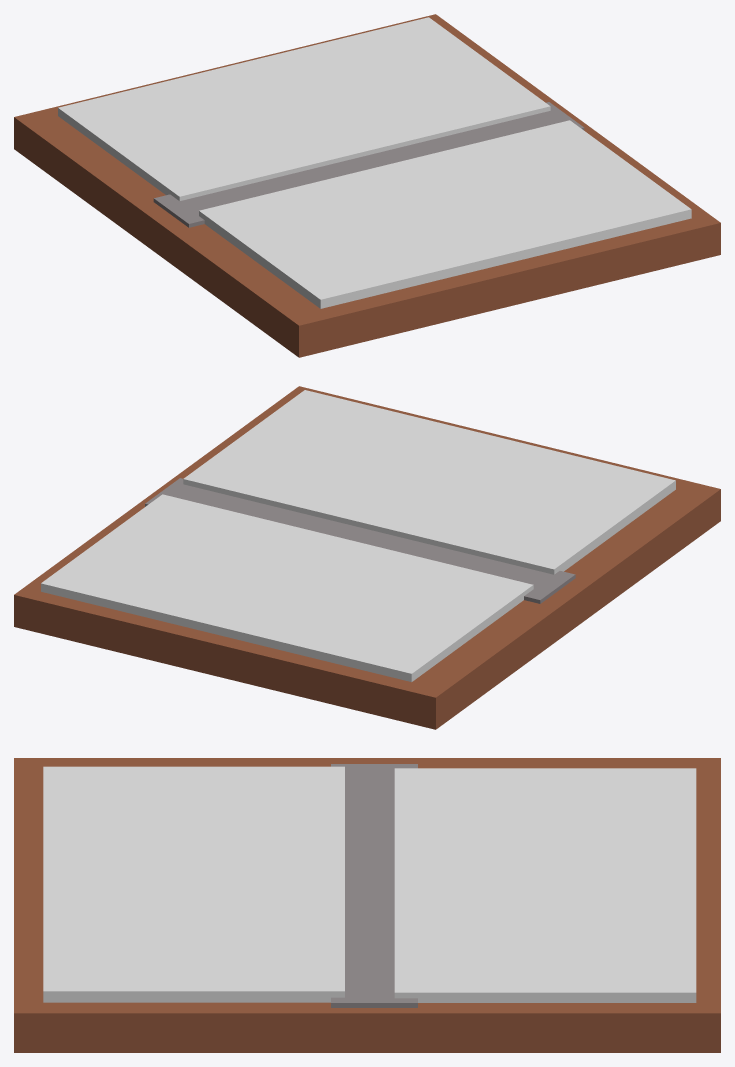
The model's file is Ghost_writing_4.fbx.
The picture shows the model from 3 angles, top to bottom: view 1: azimuth 30°, elevation 25°; view 2: azimuth 150°, elevation 25°; view 3: azimuth 270°, elevation 25°; orthographic projection. The views are drawn at different scales.
Visible parts, largest first — view 1: Würfel.002, Würfel.003, Würfel.001, Würfel; view 2: Würfel.003, Würfel.002, Würfel.001, Würfel; view 3: Würfel.002, Würfel.003, Würfel.001, Würfel.
Part boxes in pixels (box(x1,y1,x2,y2)): Würfel.002: box(199, 120, 691, 308); Würfel.003: box(58, 17, 550, 201); Würfel.001: box(14, 14, 720, 357); Würfel: box(153, 102, 584, 227); Würfel.003: box(41, 494, 533, 681); Würfel.002: box(183, 390, 675, 574); Würfel.001: box(14, 386, 720, 729); Würfel: box(145, 478, 575, 603); Würfel.002: box(43, 766, 344, 1002); Würfel.003: box(394, 768, 696, 1002); Würfel.001: box(14, 758, 720, 1052); Würfel: box(331, 764, 417, 1007).
Size of the model in its own units: 171 by 15.97 by 200.
